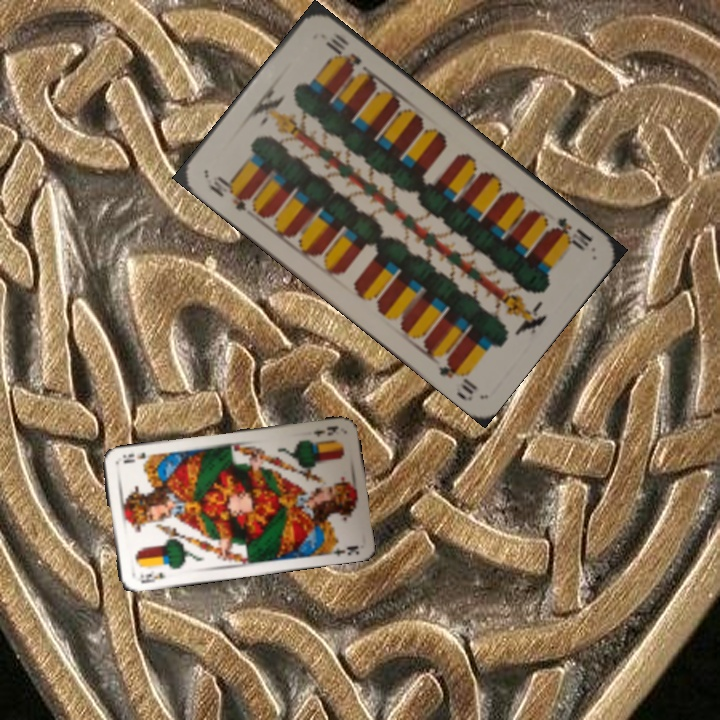E10: (202, 171, 252, 214), (547, 213, 595, 254)
EK: (132, 568, 168, 586), (309, 422, 341, 439)
